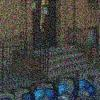stairs: (40, 44, 98, 82)
